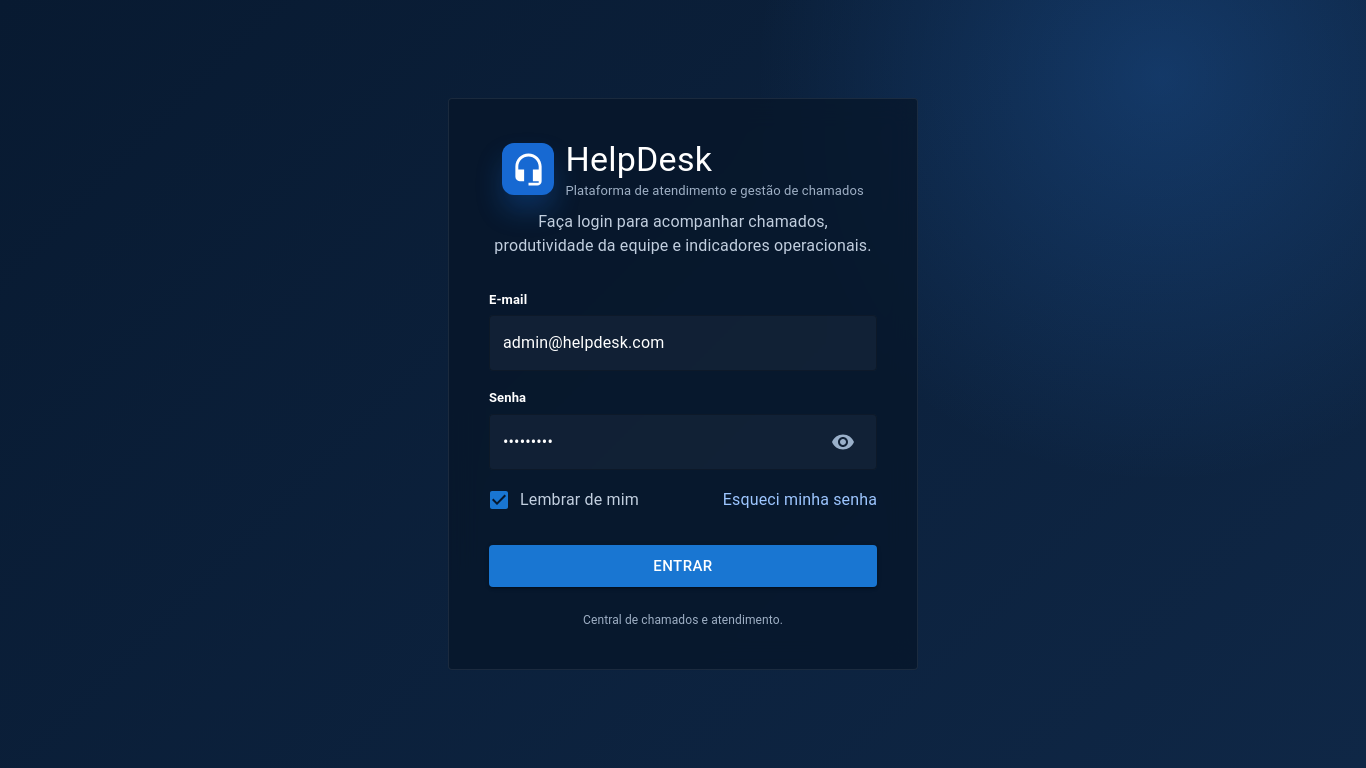
Scenario: Login › opens the password reset flow
The image size is (1366, 768).
Click the button "Esqueci minha senha": (800, 500) [723,488,877,512]
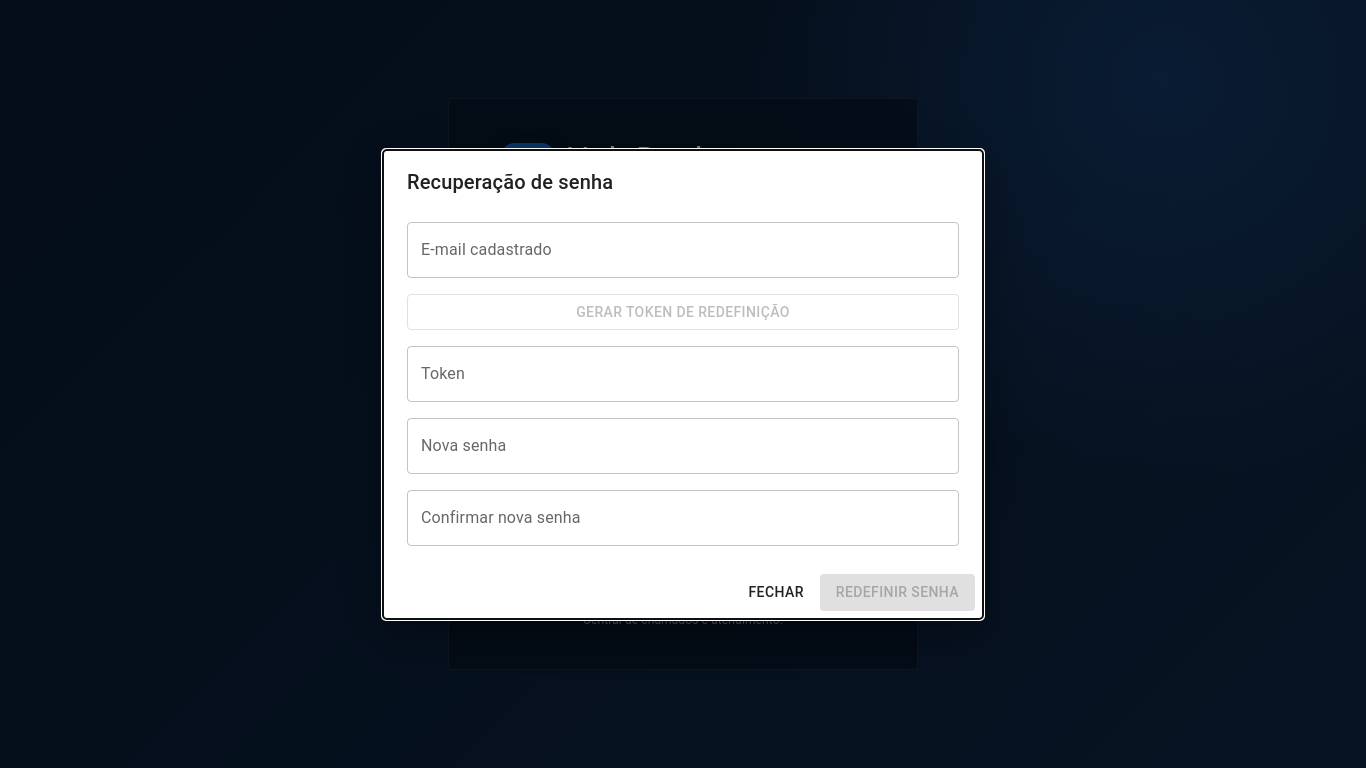
Result: the dialog shows "Recupera" at [407,170,613,194]
Result: the button "Gerar token de redefinição" is disabled at [407,294,959,330]
